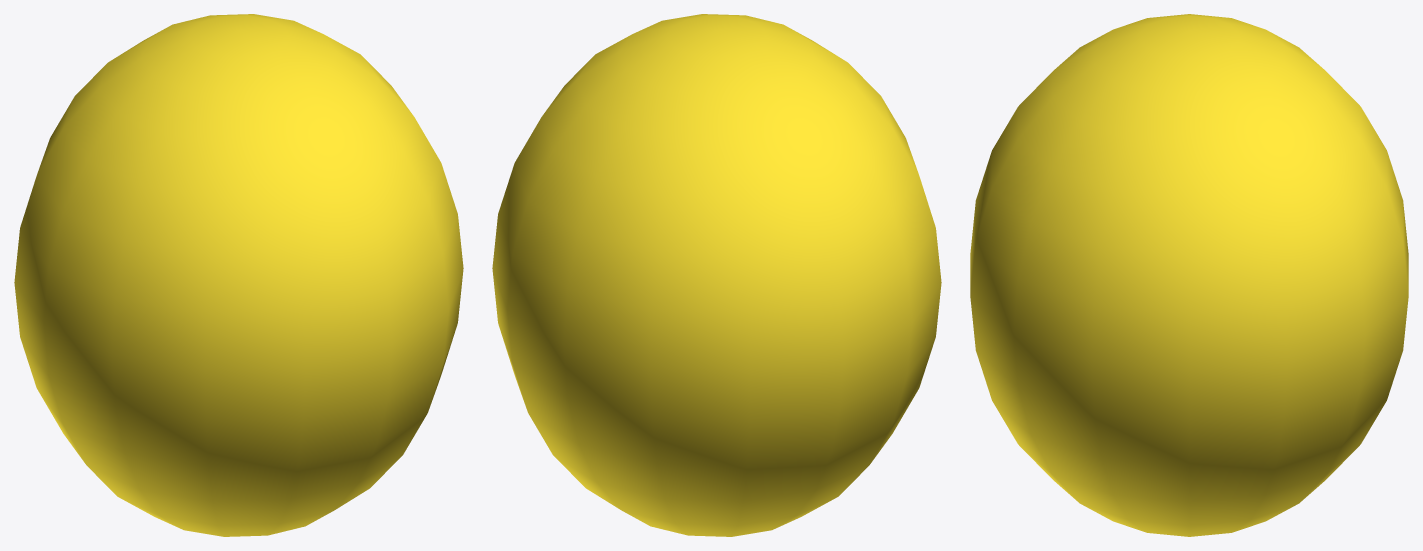
Rendered from Voltwisp_stage3.obj.
3 renders of one model, left to right at view 1: azimuth 30°, elevation 25°; view 2: azimuth 150°, elevation 25°; view 3: azimuth 270°, elevation 25°, orthographic.
Bounding box in the file's own units: 2.6 × 3.12 × 2.53.
